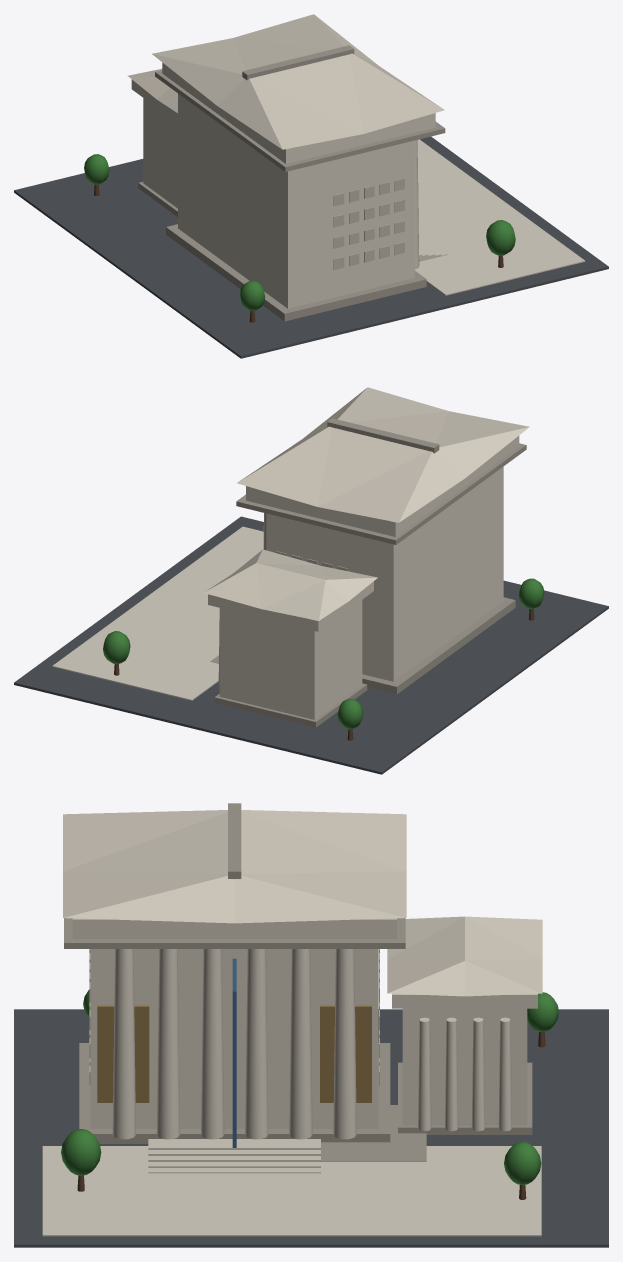
File: sejong-center.glb
3 views of the same model, one above another, from view 1: azimuth 30°, elevation 25°; view 2: azimuth 150°, elevation 25°; view 3: azimuth 270°, elevation 25° (orthographic). The views are drawn at different scales.
Size of the model in its own units: 58 by 30.5 by 62.
